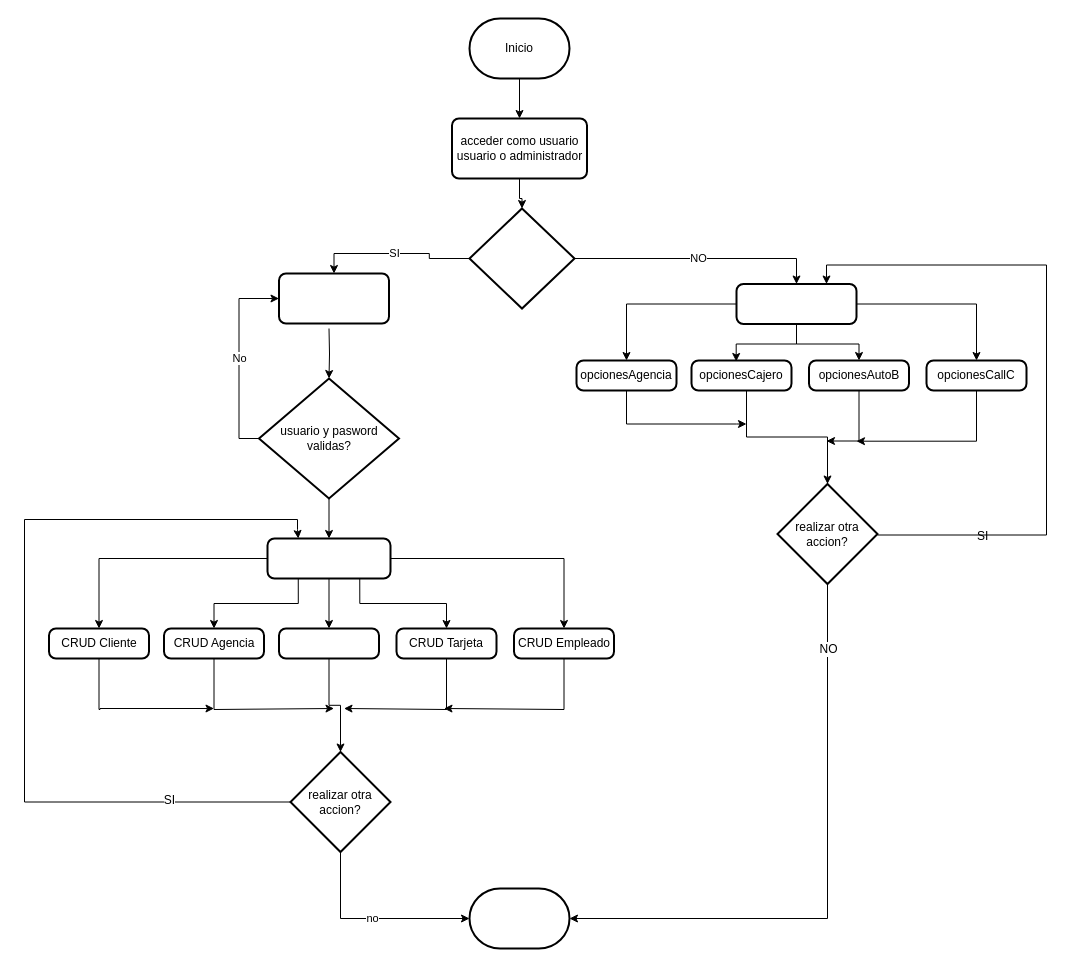
Some shapes in this 1072 by 966 pixel diagram are drawn without their labels. The shapes that lost their labels are listed below. From the top down, each one's centre as x and y in pixels, then its label:
pixel 521 258: es admin?
pixel 334 298: leer usuario leer password autenticar()
pixel 796 303: menuUsuario
pixel 328 558: menuAdmin
pixel 329 643: CRUD Cajero
pixel 519 918: FIN
